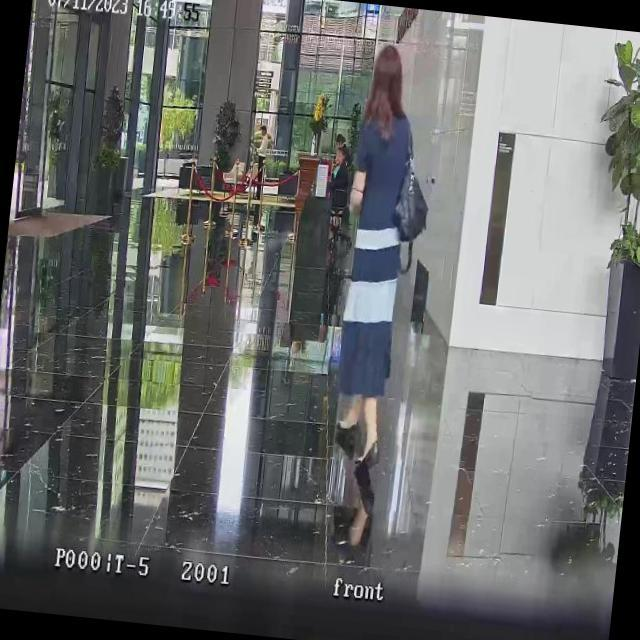person: (320, 41, 428, 474), (250, 124, 270, 200), (326, 145, 350, 207), (335, 132, 349, 150)
